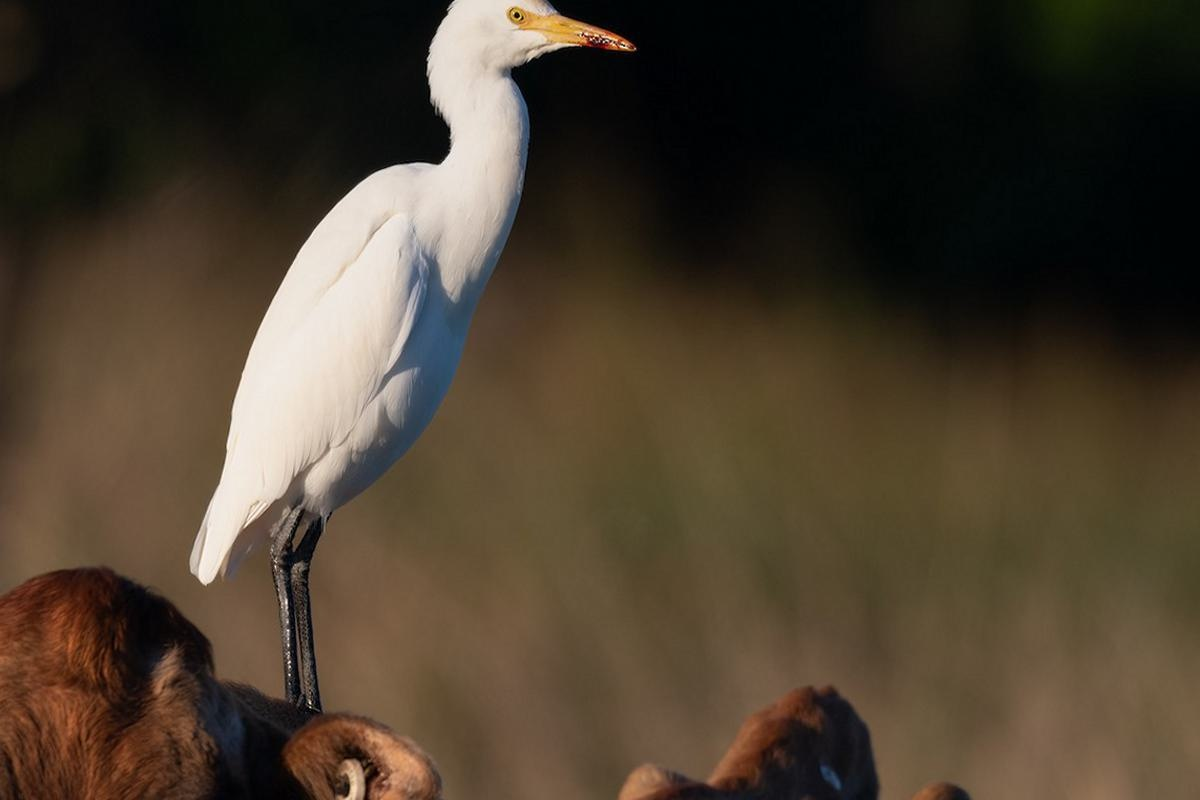egret: (162, 5, 640, 686)
